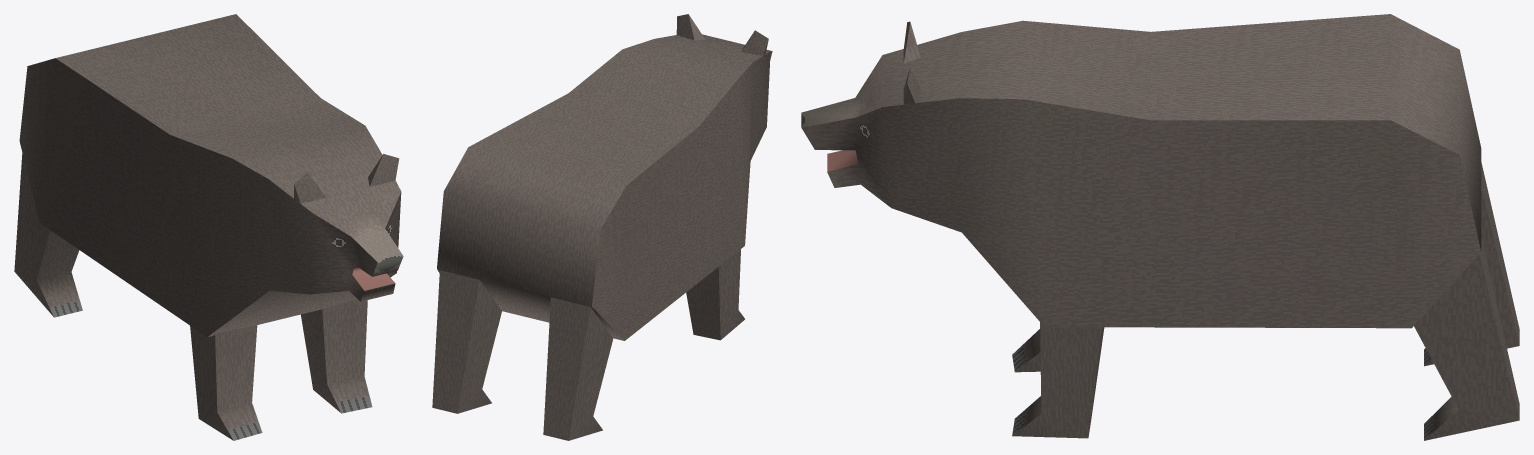
File: 01d5_Bear_Cub.glb
The picture shows the model from 3 angles, left to right: view 1: azimuth 30°, elevation 25°; view 2: azimuth 150°, elevation 25°; view 3: azimuth 270°, elevation 25°; orthographic projection. The views are drawn at different scales.
Parts seen in each view (by area): view 1: part_0; view 2: part_0; view 3: part_0.
Part boxes in pixels (x1,y1,x2,y2): part_0: (14, 14, 403, 440); part_0: (432, 14, 772, 440); part_0: (801, 14, 1519, 440).
Size of the model in its own units: 0.3756 by 0.5387 by 0.9971.
1 material, 1 textured.
